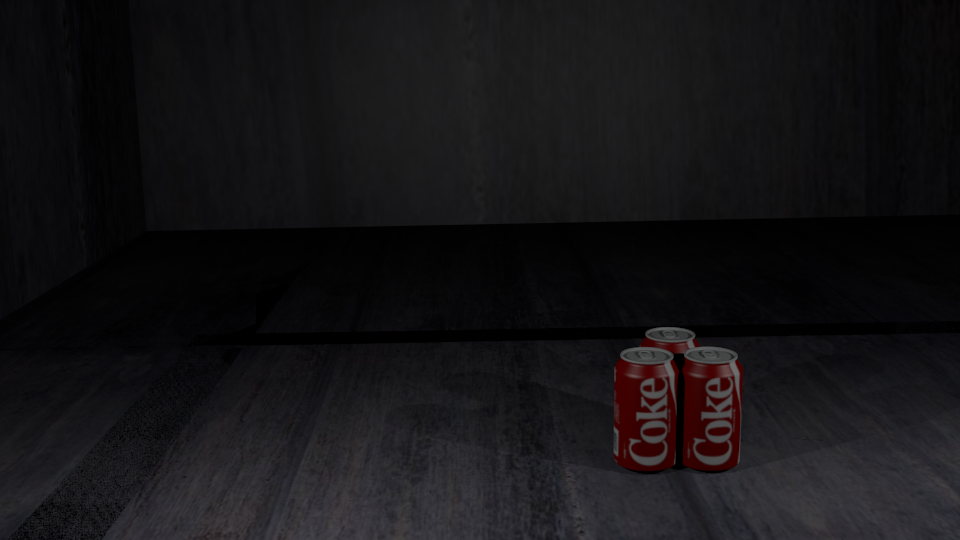cola_can: (614, 347, 678, 468), (678, 347, 742, 466), (640, 327, 699, 441)
